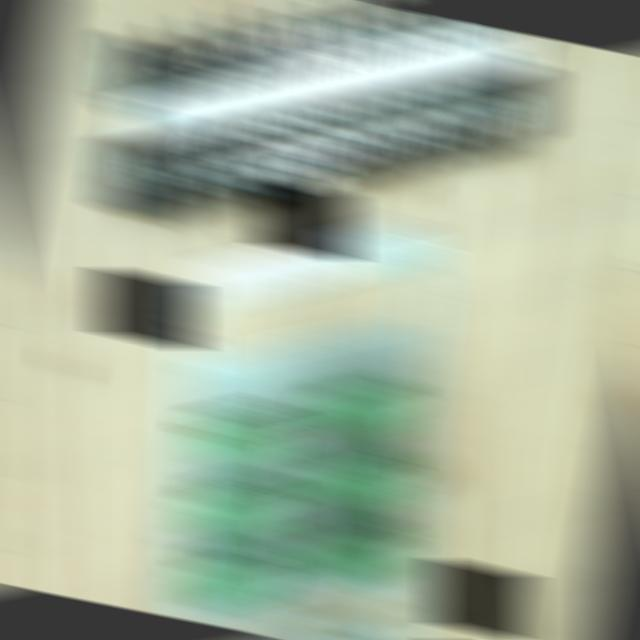Terminal_2: (172, 541, 293, 616), (295, 515, 414, 590), (175, 471, 296, 544), (301, 444, 416, 515), (305, 372, 420, 441)
